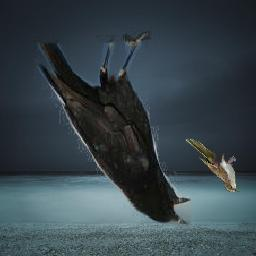Crow: (34, 27, 192, 229)
Cuckoo: (186, 138, 241, 192)
